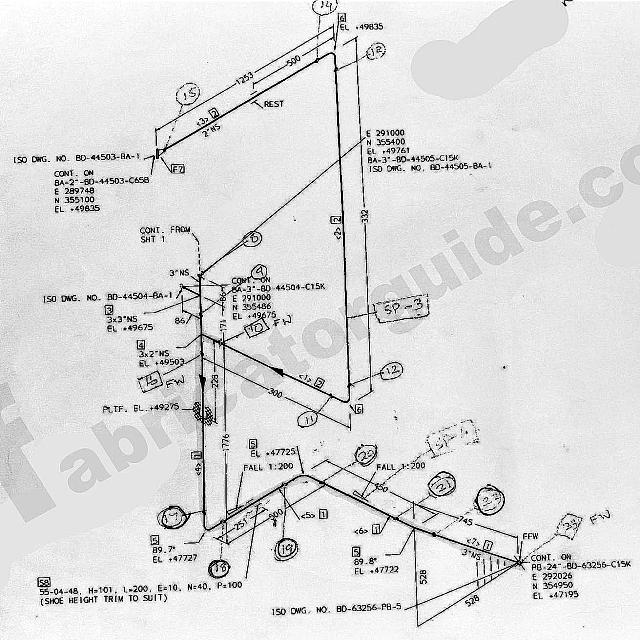Item number: (330, 213, 342, 226), (313, 376, 325, 389), (339, 12, 347, 31), (37, 576, 50, 587), (483, 538, 494, 551), (248, 437, 258, 451), (371, 523, 382, 535), (319, 507, 329, 520), (354, 402, 363, 415), (136, 338, 145, 350), (150, 533, 159, 545), (352, 545, 361, 556)
Measrement: (155, 30, 330, 134), (219, 480, 330, 546), (329, 459, 437, 515), (232, 369, 327, 416), (426, 513, 517, 539), (209, 351, 218, 428), (176, 282, 186, 310)
Pipeline: (161, 42, 342, 158), (318, 477, 518, 562), (234, 349, 310, 386)
Symbol: (177, 278, 204, 318), (201, 503, 228, 535), (319, 45, 342, 76), (329, 380, 353, 408), (272, 364, 285, 380)
Weld number: (473, 483, 507, 518), (426, 469, 458, 499), (157, 503, 191, 531), (174, 80, 202, 107), (353, 441, 379, 468), (273, 537, 299, 562), (207, 557, 232, 580), (380, 360, 404, 382), (242, 228, 263, 248), (296, 410, 319, 428), (312, 1, 337, 17)
other: (364, 126, 489, 175), (231, 268, 326, 330), (527, 552, 632, 602), (51, 167, 148, 213), (37, 583, 222, 605), (41, 290, 170, 303), (14, 150, 142, 162), (100, 402, 181, 415), (106, 313, 156, 333), (138, 223, 193, 241), (137, 349, 186, 369), (242, 461, 297, 473), (353, 563, 400, 576), (151, 554, 197, 565), (264, 447, 299, 458), (357, 21, 386, 32), (262, 98, 284, 110)
